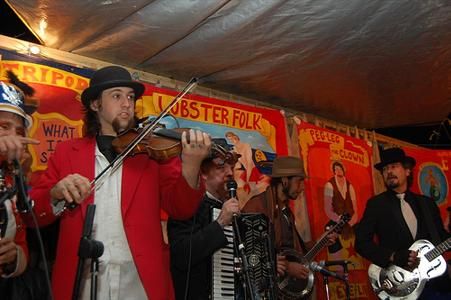person: (23, 67, 214, 299)
